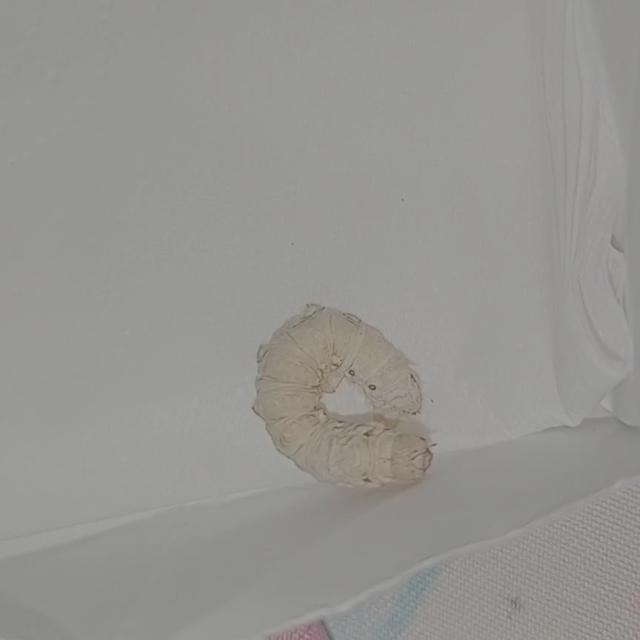Healthy: (227, 273, 456, 520)
